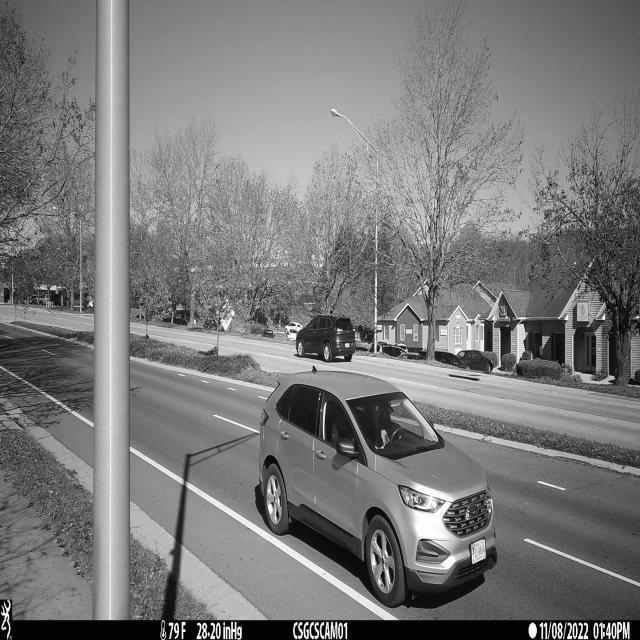SUV: (254, 367, 498, 609)
